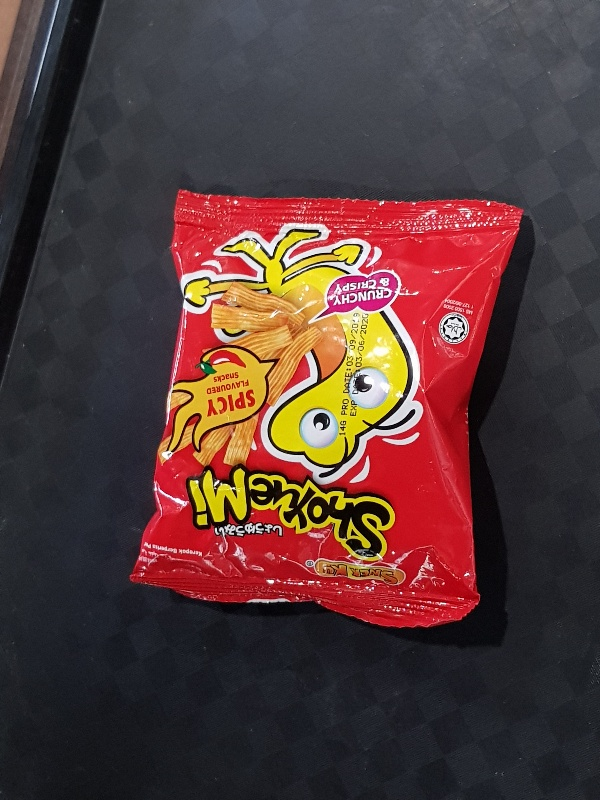ShoyueMi Spicy Flavoured Snacks: (126, 192, 520, 629)
